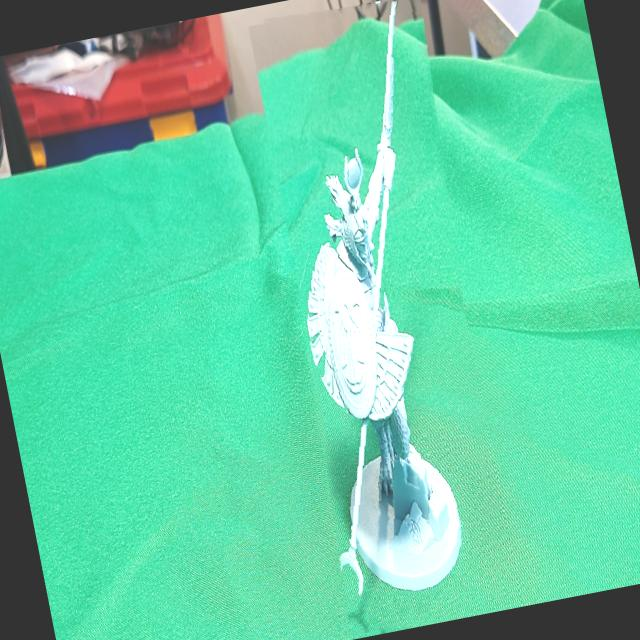isis: (239, 0, 530, 638)
